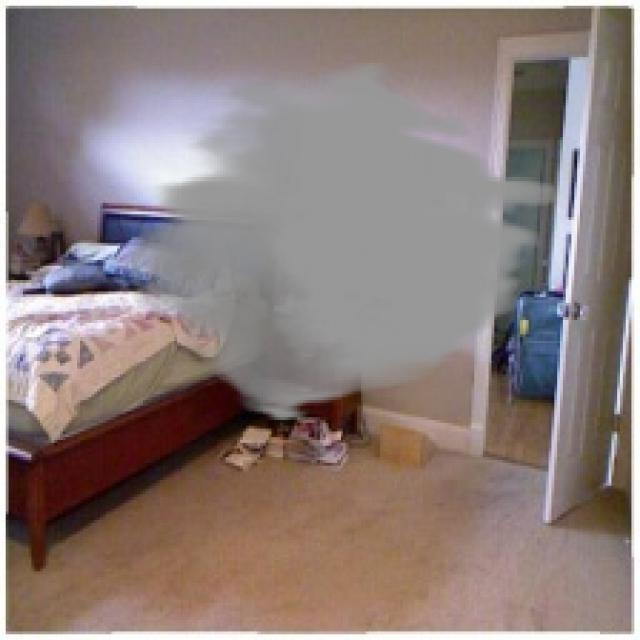Smoke: (132, 60, 554, 423)
